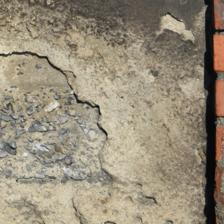Crack: (1, 26, 110, 117)
